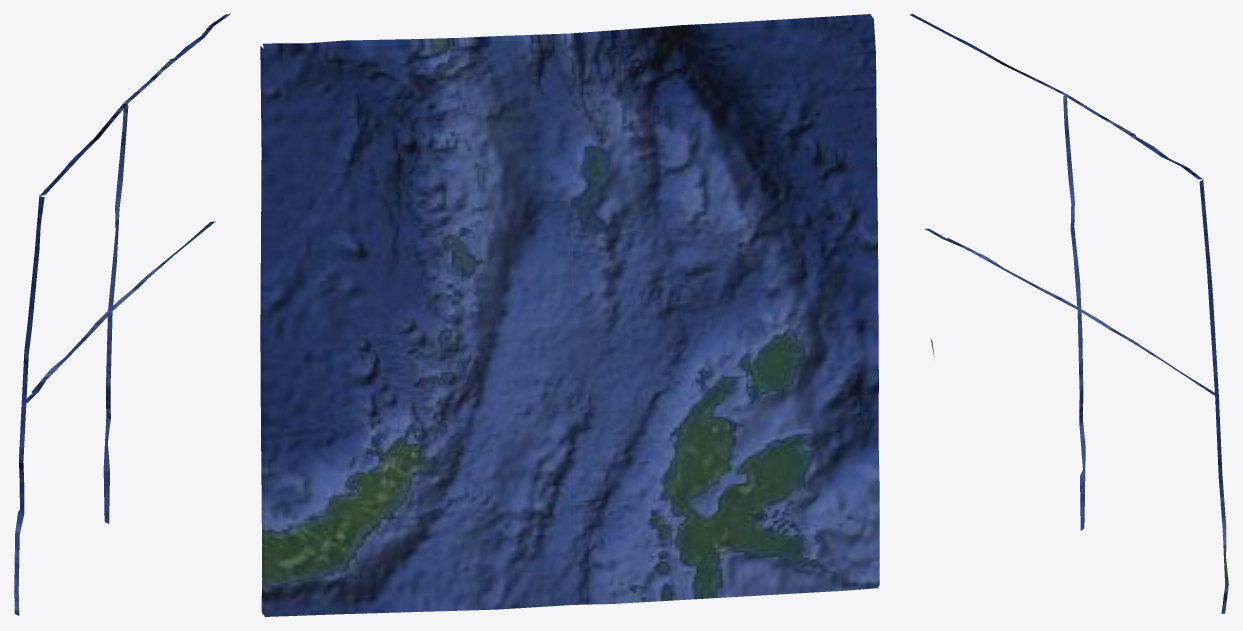
The picture shows the model from 3 angles, left to right: view 1: azimuth 30°, elevation 25°; view 2: azimuth 150°, elevation 25°; view 3: azimuth 270°, elevation 25°; orthographic projection. The views are drawn at different scales.
Size of the model in its own units: 530400 by 628321 by 411528.
1 material, 1 textured.
